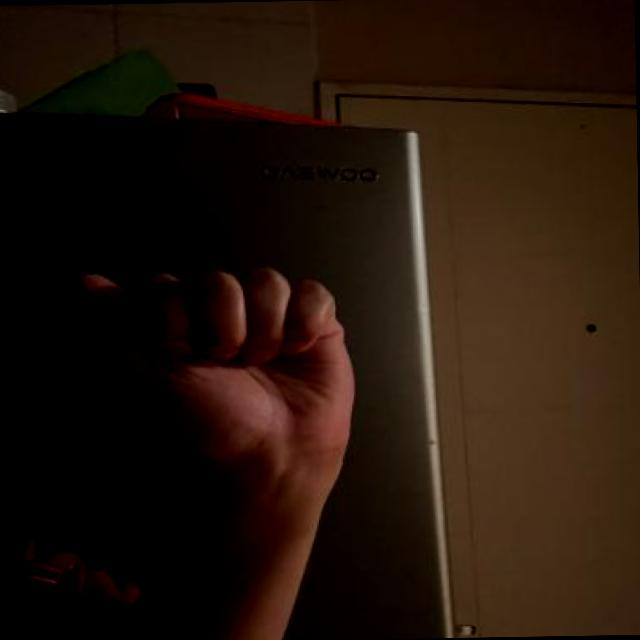A: (59, 258, 390, 470)
